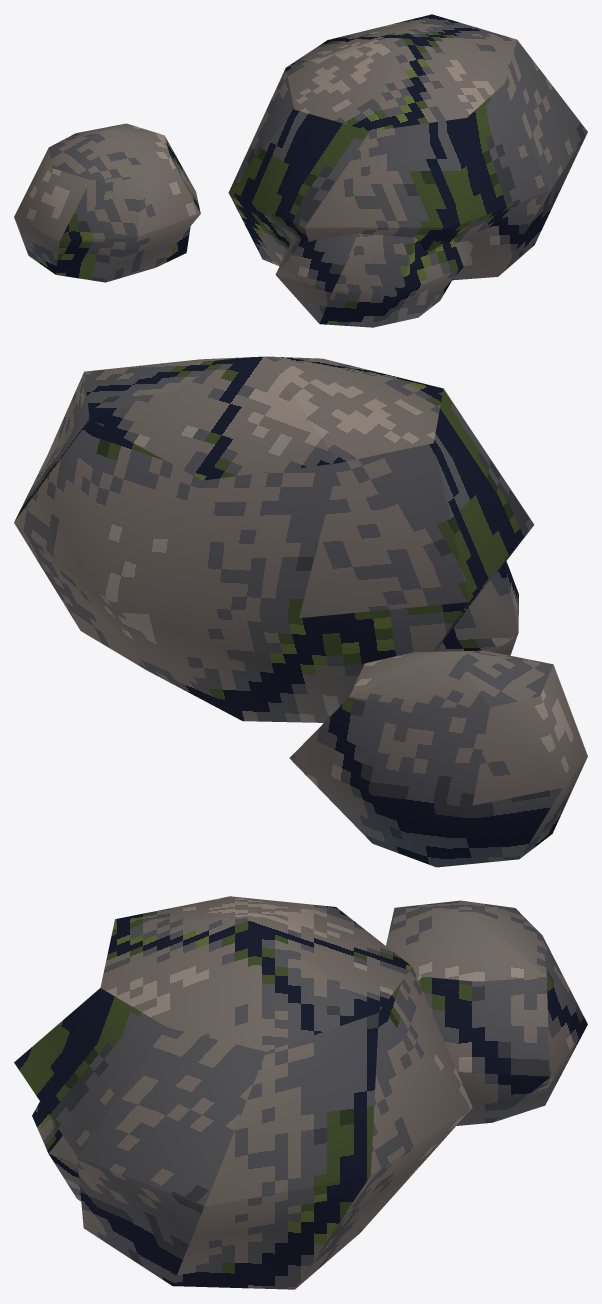
File: cave.boulder__big.glb
3 views of the same model, one above another, from view 1: azimuth 30°, elevation 25°; view 2: azimuth 150°, elevation 25°; view 3: azimuth 270°, elevation 25° (orthographic). The views are drawn at different scales.
Visible parts, largest first — view 1: kit_boulders; view 2: kit_boulders; view 3: kit_boulders.
Part boxes in pixels (x1=…): kit_boulders: x1=14, y1=14, x2=587, y2=327; kit_boulders: x1=14, y1=356, x2=587, y2=867; kit_boulders: x1=14, y1=896, x2=587, y2=1289.
Bounding box in the file's own units: 3.59 × 1.65 × 2.73.
1 material, 1 textured.
